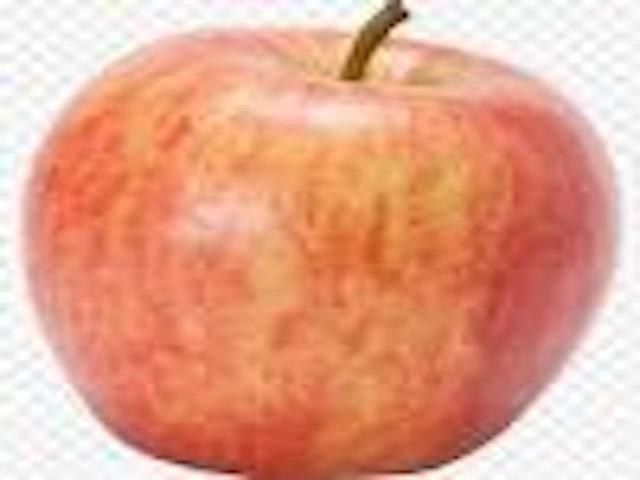apple: (18, 0, 628, 480)
